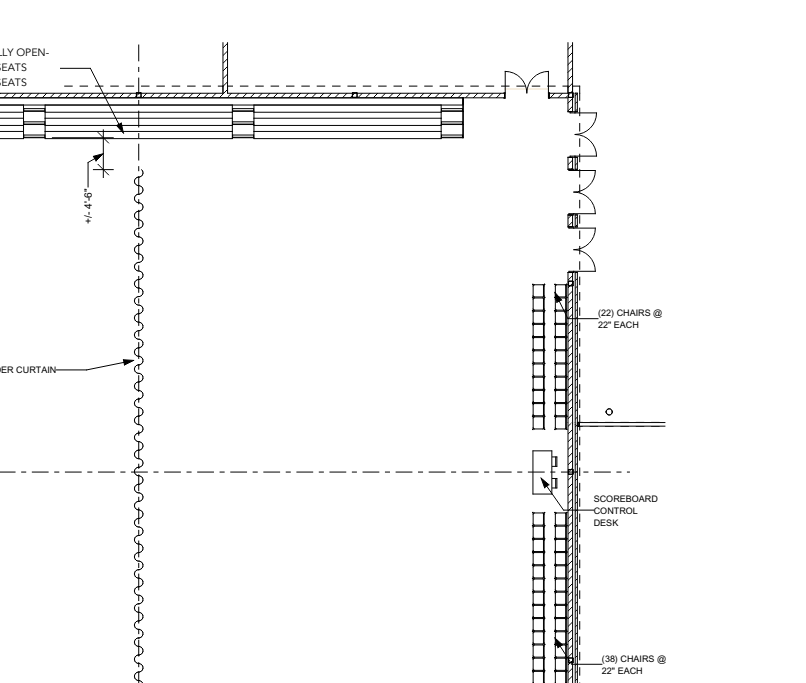double door: (562, 223, 600, 276), (500, 65, 552, 103), (566, 107, 603, 159), (565, 165, 602, 217)
